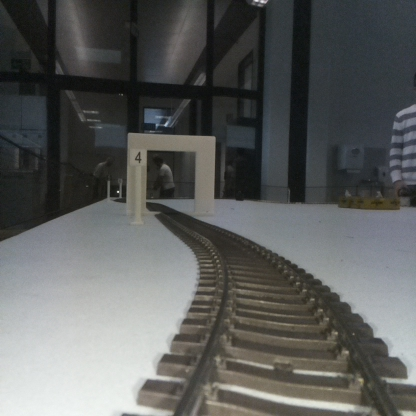white-info-4: (130, 148, 146, 222)
